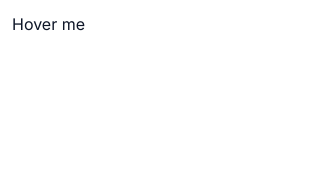
Tooltip Components › shows tooltip content on focus
The image size is (332, 172).
Focus the button "Hover me" at [48, 24], box [12,12,85,36]
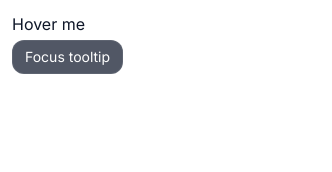
Expected: the text "Focus tooltip" is shown, [25,47,110,67]
